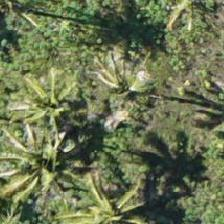coconut_tree: (1, 48, 91, 138), (0, 114, 82, 204), (33, 170, 123, 223)
